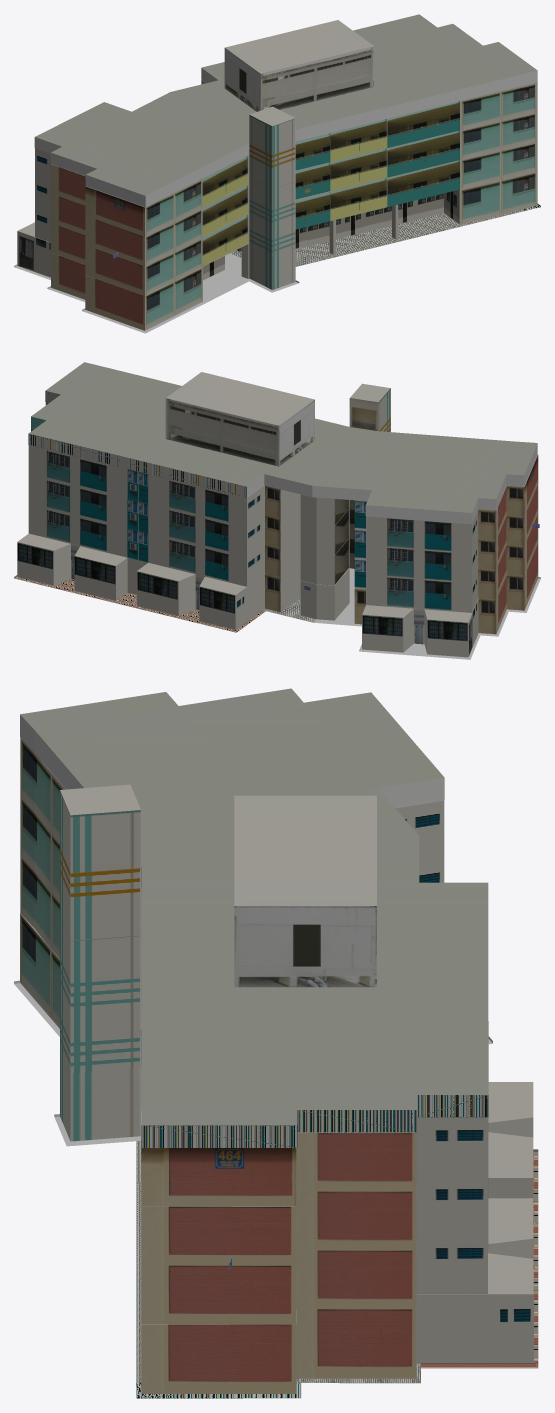
File: hdb_small.glb
3 renders of one model, top to bottom at view 1: azimuth 30°, elevation 25°; view 2: azimuth 150°, elevation 25°; view 3: azimuth 270°, elevation 25°, orthographic. The views are drawn at different scales.
Visible parts, largest first — view 1: TTH_01, Roof_01, Grd_Floor_01, Wtank_01, Lift_01, Base_01; view 2: TTH_01, Roof_01, Grd_Floor_01, Wtank_01, Base_01, Lift_01, SC_01; view 3: Roof_01, TTH_01, Grd_Floor_01, Lift_01, Wtank_01, Base_01.
Part boxes in pixels (x1,y1,x2,y2): TTH_01: (35,79,537,295); Roof_01: (34,14,537,206); Grd_Floor_01: (17,170,537,330); Wtank_01: (224,20,373,111); Lift_01: (249,106,295,289); Base_01: (14,204,540,333); TTH_01: (28,402,538,612); Roof_01: (28,362,537,524); Grd_Floor_01: (17,533,538,657); Wtank_01: (165,372,314,466); Base_01: (14,568,540,659); Lift_01: (349,383,390,431); SC_01: (300,568,349,620); Roof_01: (20,688,488,1147); TTH_01: (20,737,488,1324); Grd_Floor_01: (20,913,533,1393); Lift_01: (60,784,140,1141); Wtank_01: (234,795,376,987); Base_01: (14,980,538,1398).
Bounding box in the file's own units: 44344 × 16340 × 22036.
15 materials, 14 textured.
